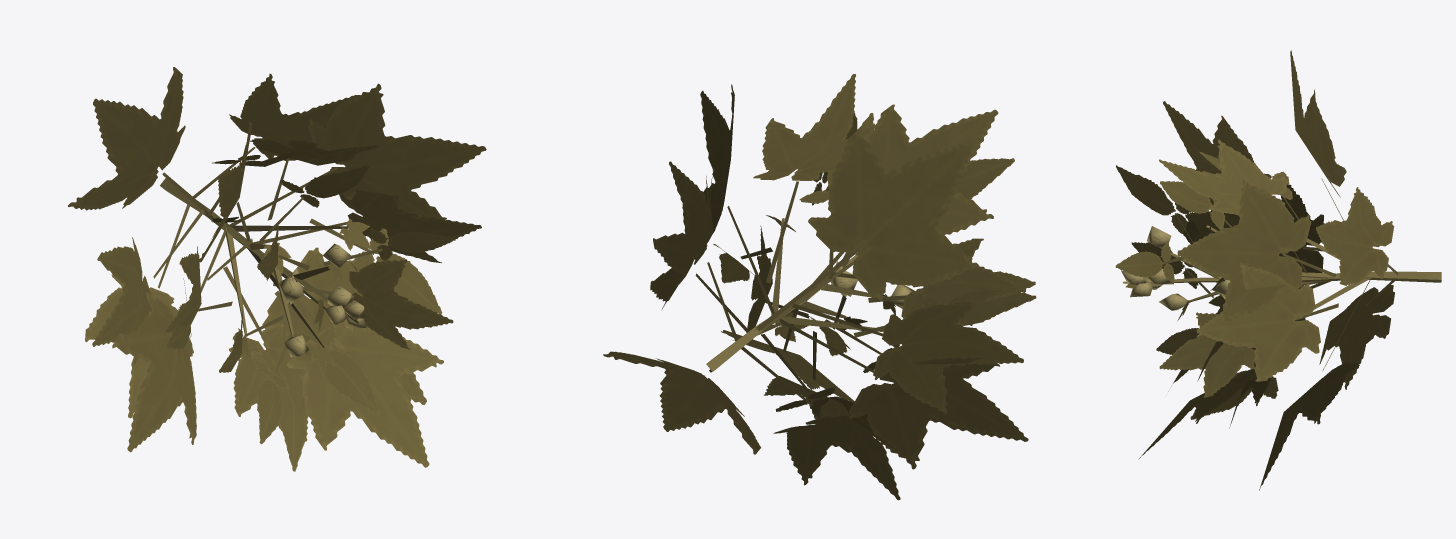
Rendered from p_male_afghan_preflower_c2_cards.obj.
3 renders of one model, left to right at view 1: azimuth 30°, elevation 25°; view 2: azimuth 150°, elevation 25°; view 3: azimuth 270°, elevation 25°, orthographic. The views are drawn at different scales.
Bounding box in the file's own units: 1.28 × 1.31 × 0.939.
Materials: 1 (1 with a texture image).
